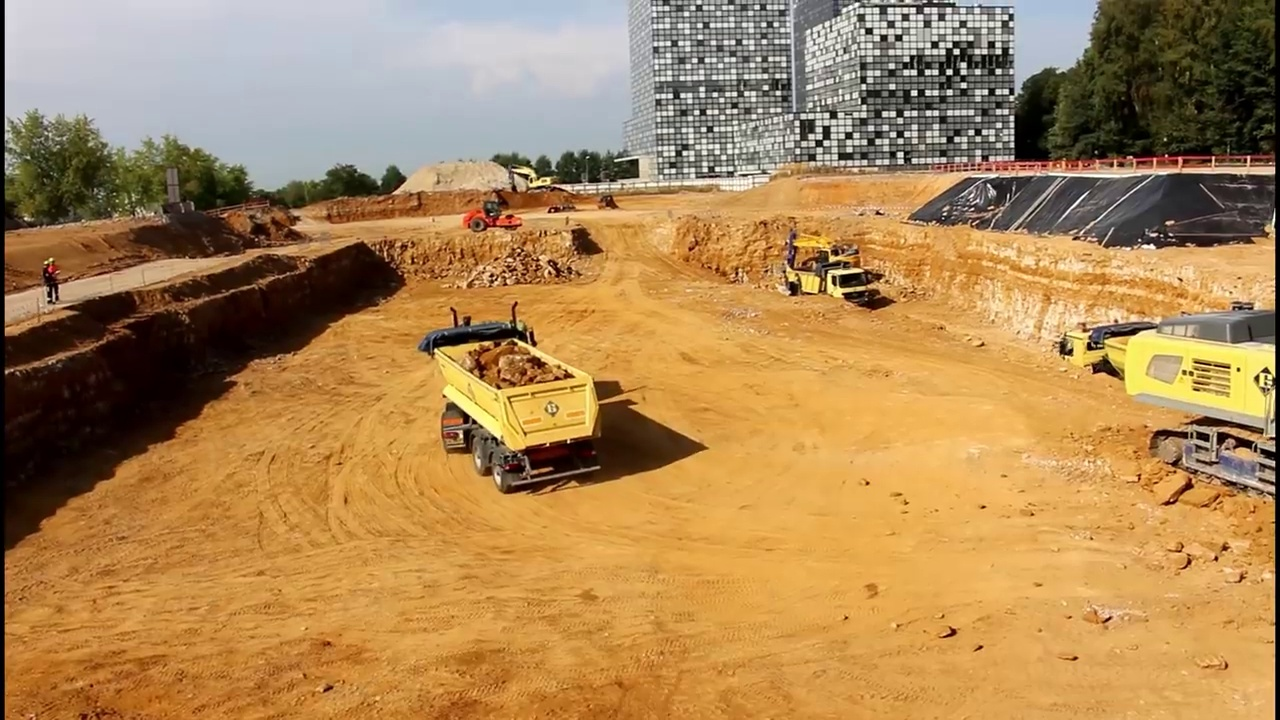compactor: (458, 198, 524, 234)
excavator: (1123, 299, 1280, 502), (777, 226, 868, 289), (502, 158, 560, 198)
truck: (417, 300, 609, 493), (1053, 317, 1247, 421), (785, 258, 874, 314)
worker: (38, 252, 57, 312), (47, 254, 64, 305)
